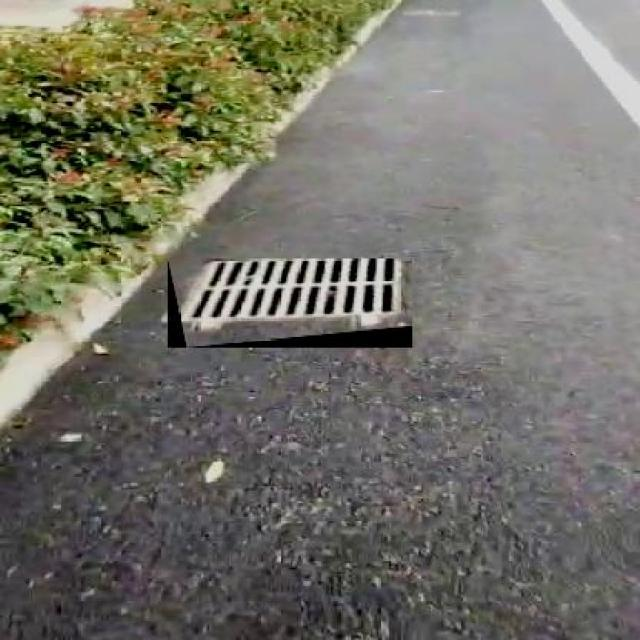Manhole: (168, 260, 412, 348)
